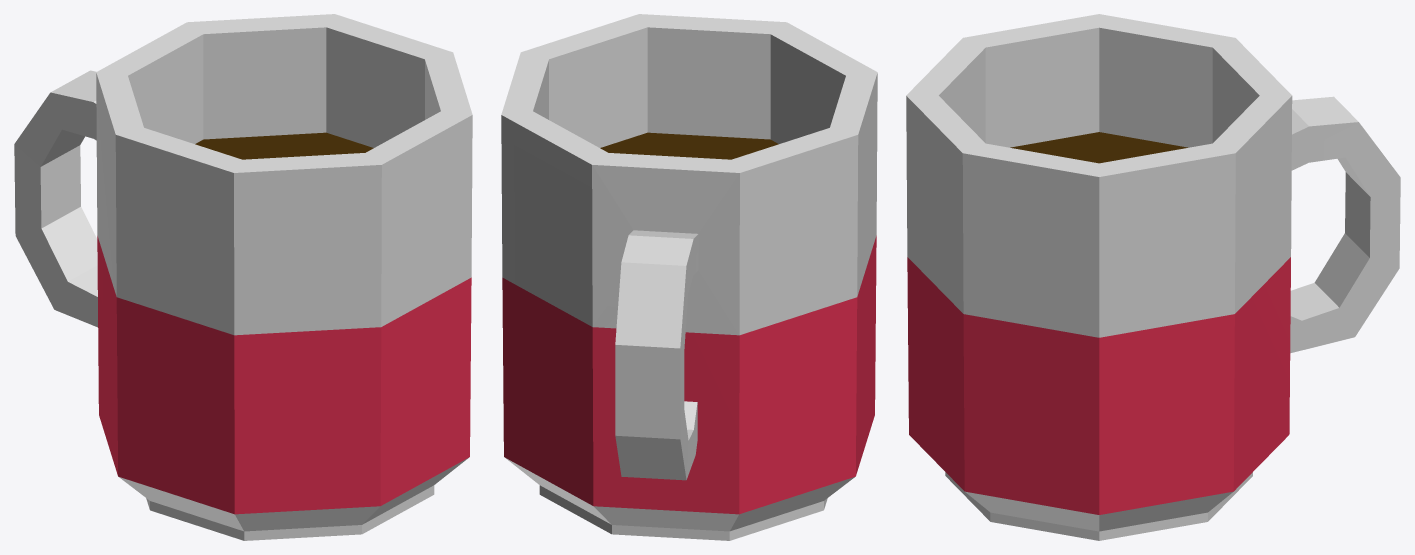
The model's file is C_Coffee_Cup_Small_3.fbx.
3 renders of one model, left to right at view 1: azimuth 30°, elevation 25°; view 2: azimuth 150°, elevation 25°; view 3: azimuth 270°, elevation 25°, orthographic.
Parts seen in each view (by area): view 1: C_Coffee_Cup_Small_3; view 2: C_Coffee_Cup_Small_3; view 3: C_Coffee_Cup_Small_3.
Boxes of the visible parts, bbox=[...] form: C_Coffee_Cup_Small_3: bbox=[14, 14, 472, 540]; C_Coffee_Cup_Small_3: bbox=[501, 14, 877, 540]; C_Coffee_Cup_Small_3: bbox=[906, 14, 1400, 540].
Size of the model in its own units: 49.12 by 62.93 by 53.42.
